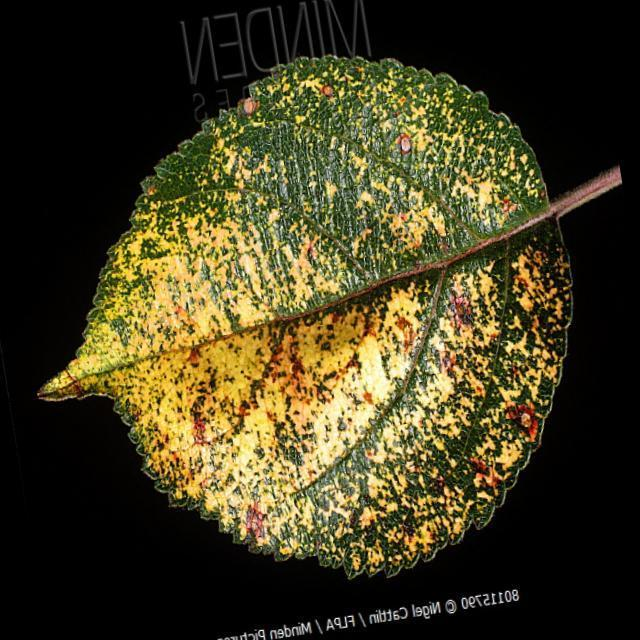Mosaic Virus: (38, 53, 594, 584)
